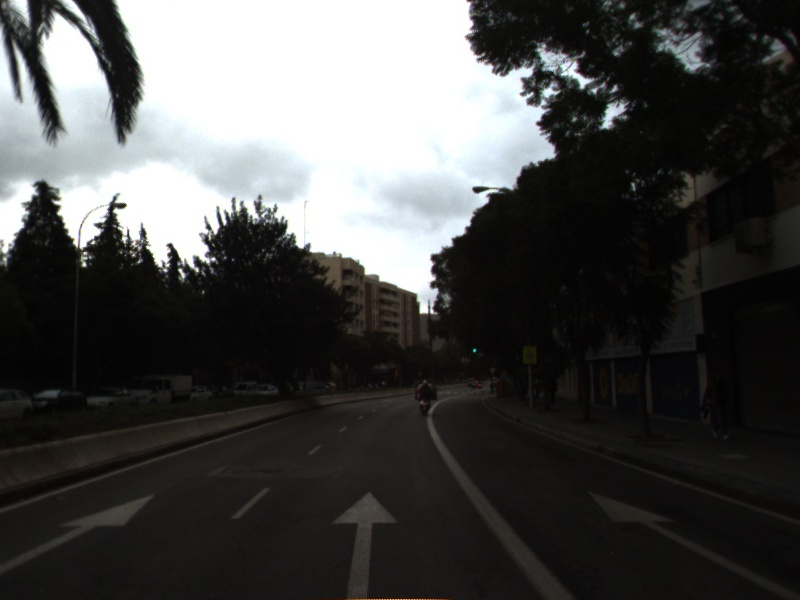STRAIGHT: (586, 487, 800, 600), (1, 489, 161, 573), (328, 489, 402, 600)
